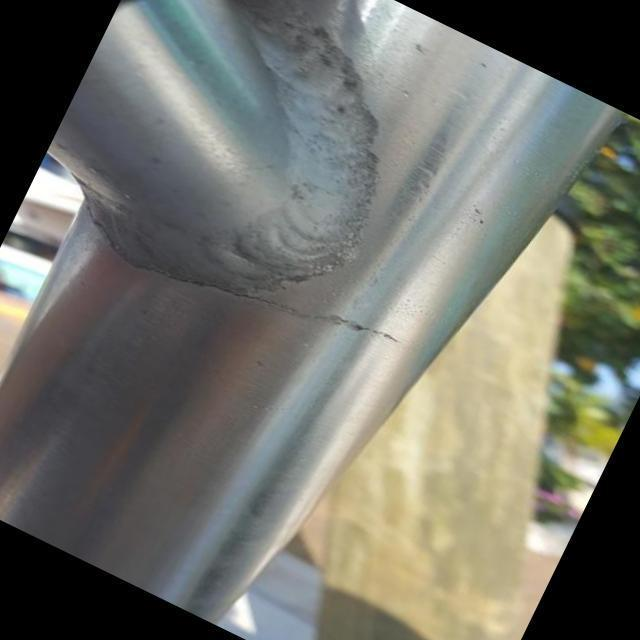defect: (74, 202, 410, 351)
